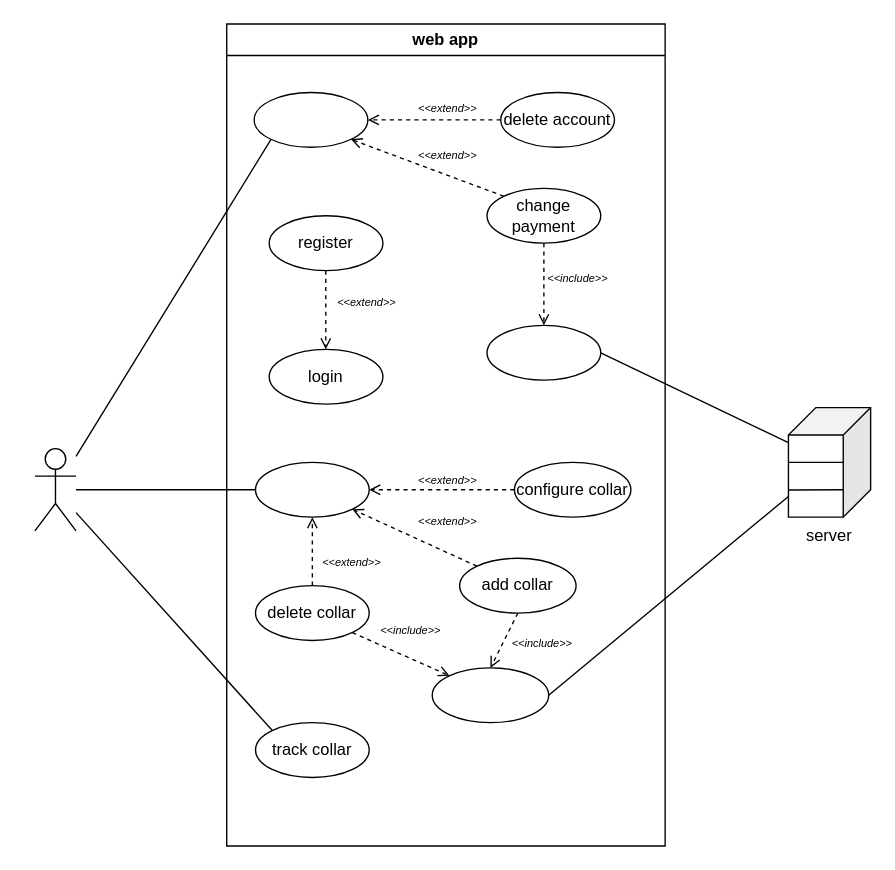
Image size: 895x870. Some labels were removed from this diagram. The centre of each missing label's shape, as x and y in pixels:
"end user" belongs at (x=55, y=489).
"manage account" belongs at (x=310, y=119).
"manage collars" belongs at (x=311, y=489).
"validate collar" belongs at (x=490, y=695).
"validate payment" belongs at (x=543, y=352).
